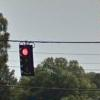Traffic light: (14, 38, 45, 94)
